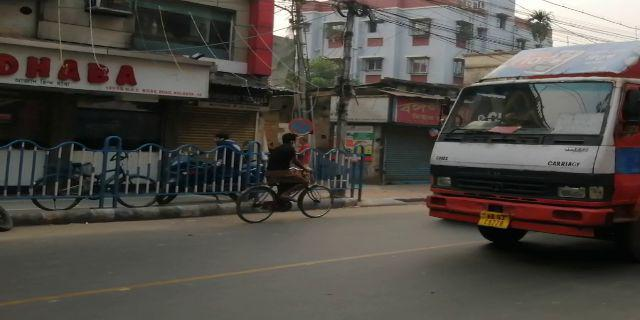Cycle: (229, 128, 333, 223)
Truck: (428, 47, 640, 242)
